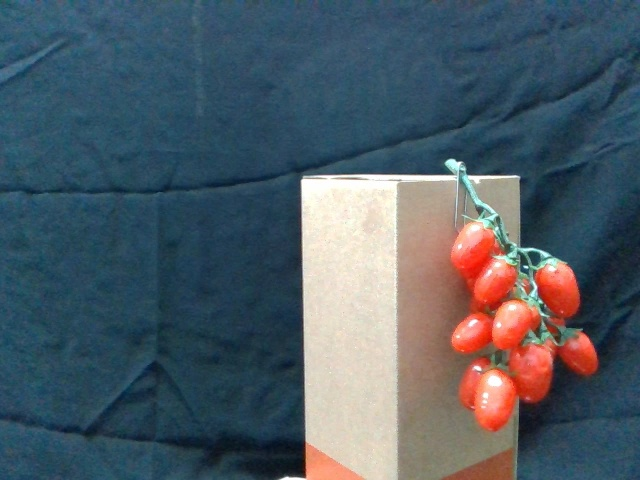tomato: (474, 365, 517, 432), (536, 258, 582, 318), (452, 215, 498, 274), (511, 339, 552, 402), (554, 327, 603, 377), (475, 251, 519, 301), (494, 297, 536, 347), (451, 308, 492, 358)
